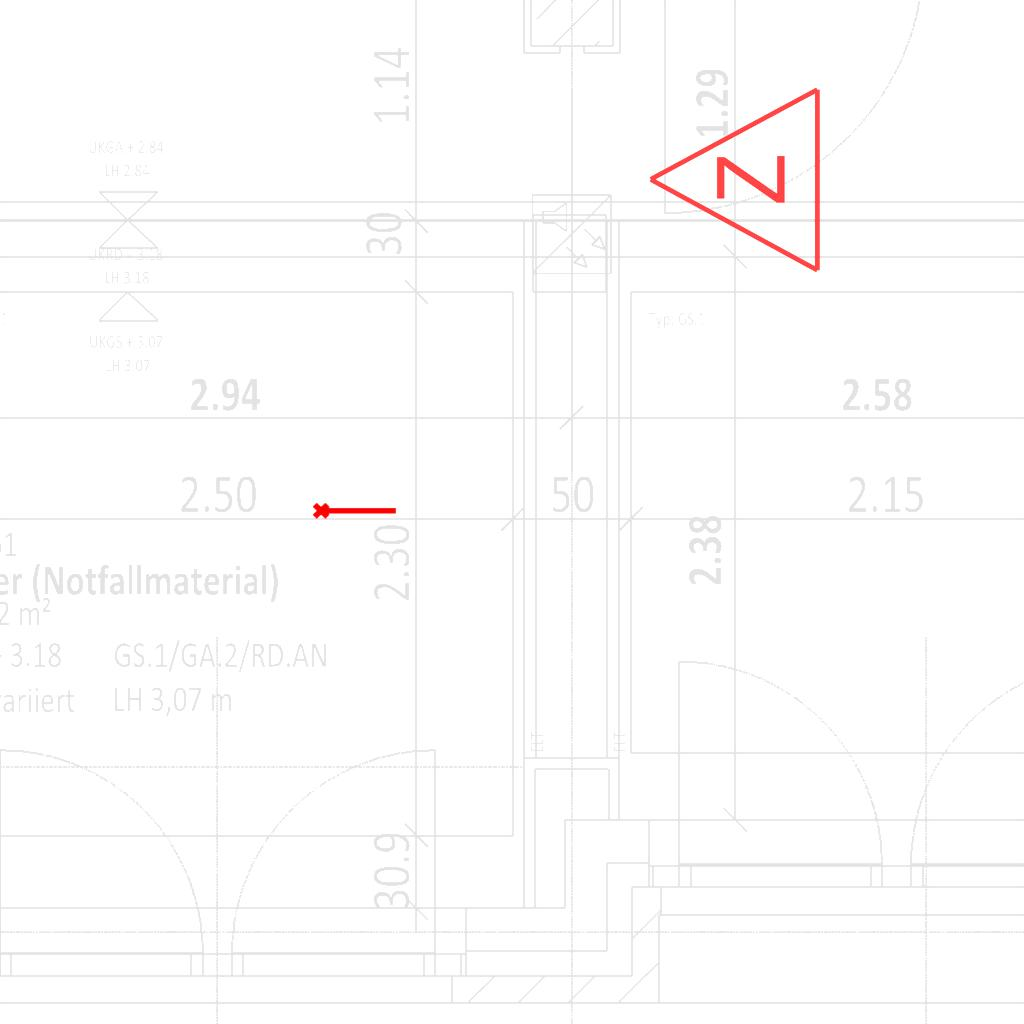ASR_Ansaugoeffnung: (311, 498, 399, 521)
Zimmersignalleuchte: (635, 84, 835, 280)
